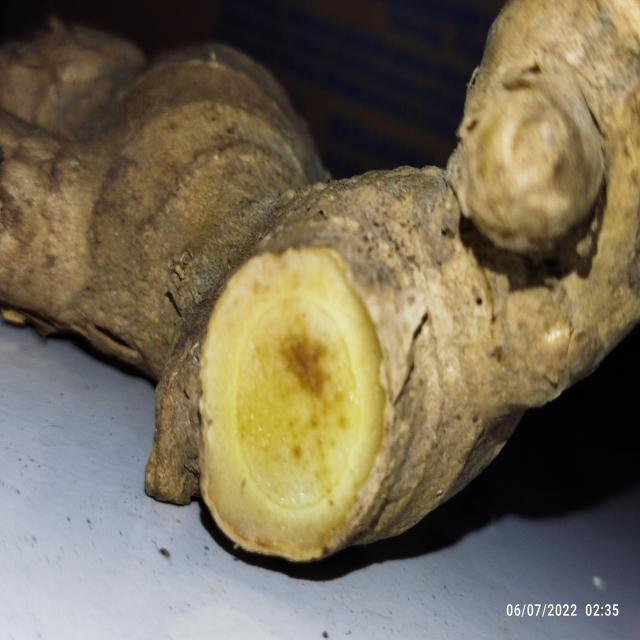ginger: (6, 7, 640, 550)
